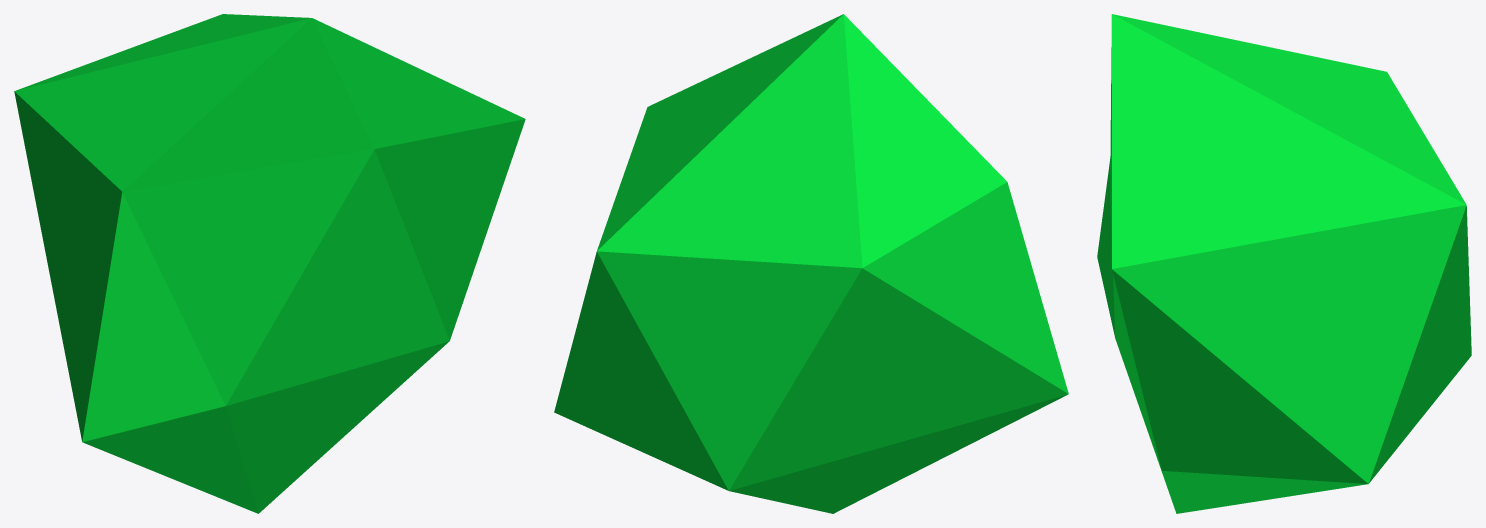
File: bush_01.fbx
The picture shows the model from 3 angles, left to right: view 1: azimuth 30°, elevation 25°; view 2: azimuth 150°, elevation 25°; view 3: azimuth 270°, elevation 25°; orthographic projection. The views are drawn at different scales.
Visible parts, largest first — view 1: Icosphere; view 2: Icosphere; view 3: Icosphere.
Part boxes in pixels (left/top/right/bottom): Icosphere: left=14, top=14, right=525, bottom=513; Icosphere: left=554, top=14, right=1068, bottom=513; Icosphere: left=1097, top=14, right=1471, bottom=513.
Size of the model in its own units: 1.83 by 2 by 1.33.
